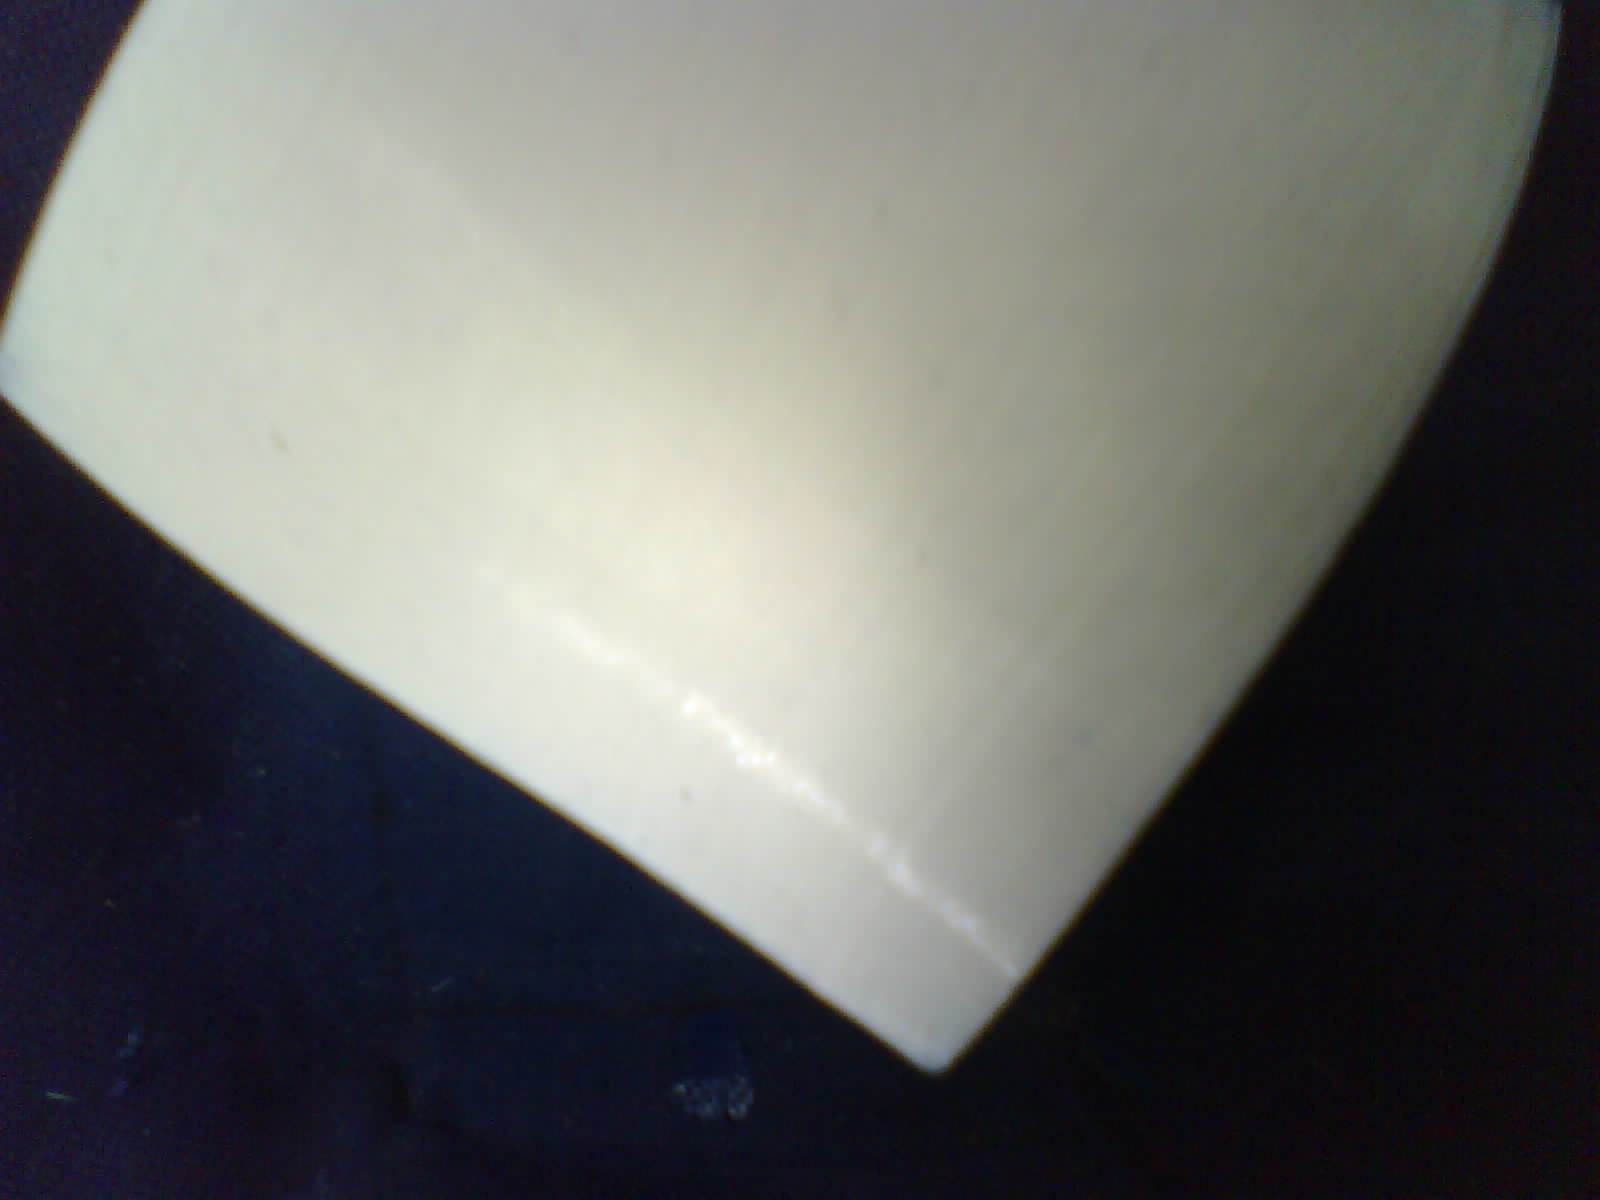cube-hard: (0, 0, 1584, 1100)
